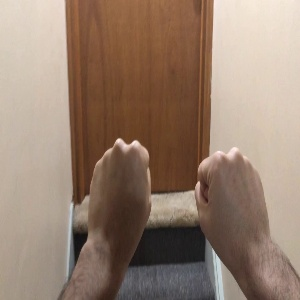hand: (194, 147, 271, 250), (88, 139, 153, 246)
